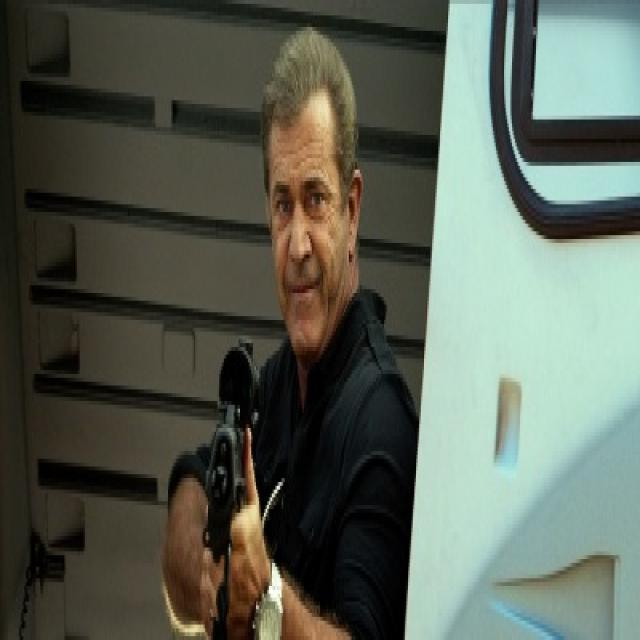rifle: (206, 327, 260, 630)
